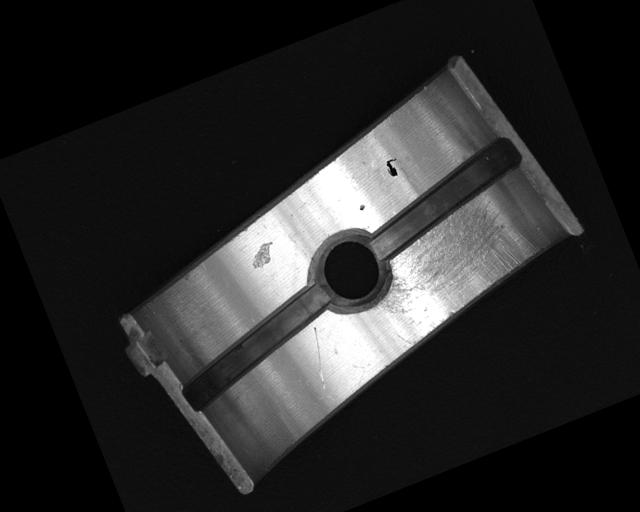blot: (383, 155, 404, 179)
bruise: (245, 239, 281, 273), (357, 203, 366, 211)
gap: (165, 278, 349, 412), (350, 133, 536, 261)
hole: (297, 220, 401, 322)
nick: (300, 325, 338, 389)
scratch: (353, 174, 555, 351)
